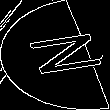N_E: (8, 30, 102, 80)
